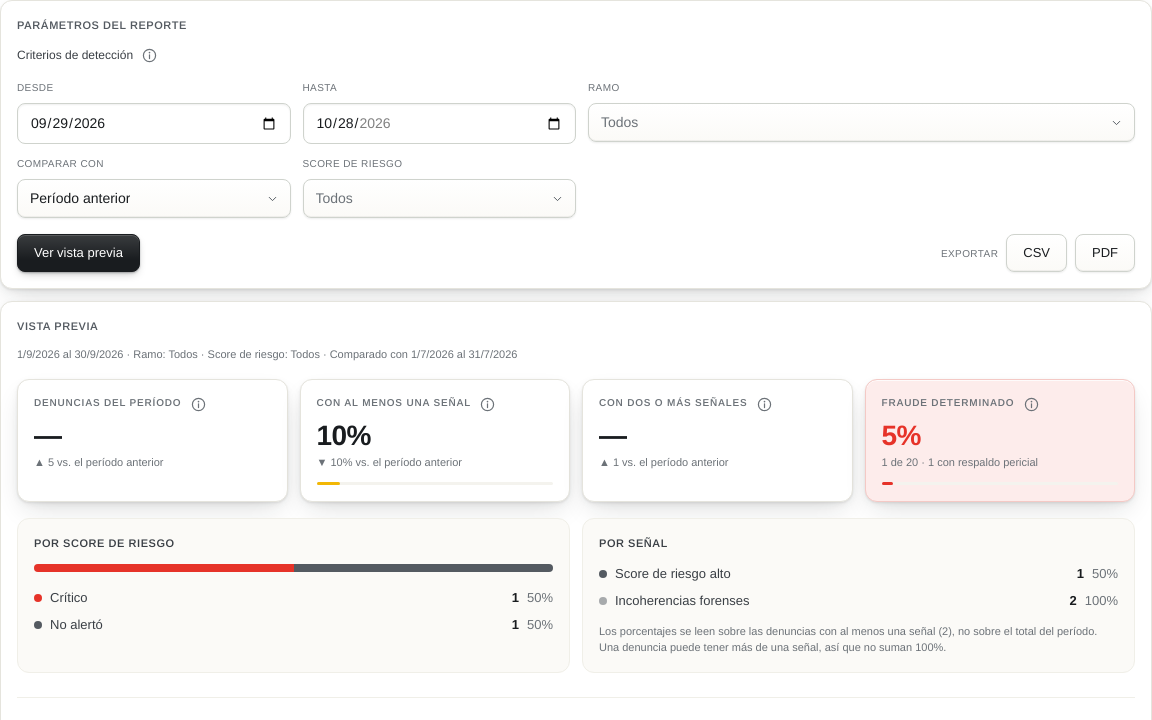
Test: FraudReportComponent › keeps the detection criteria behind the info tip until it is opened
Click the button named "Más información" next to "Criterios de detección" at (149, 55), box 140,46 -> 158,64
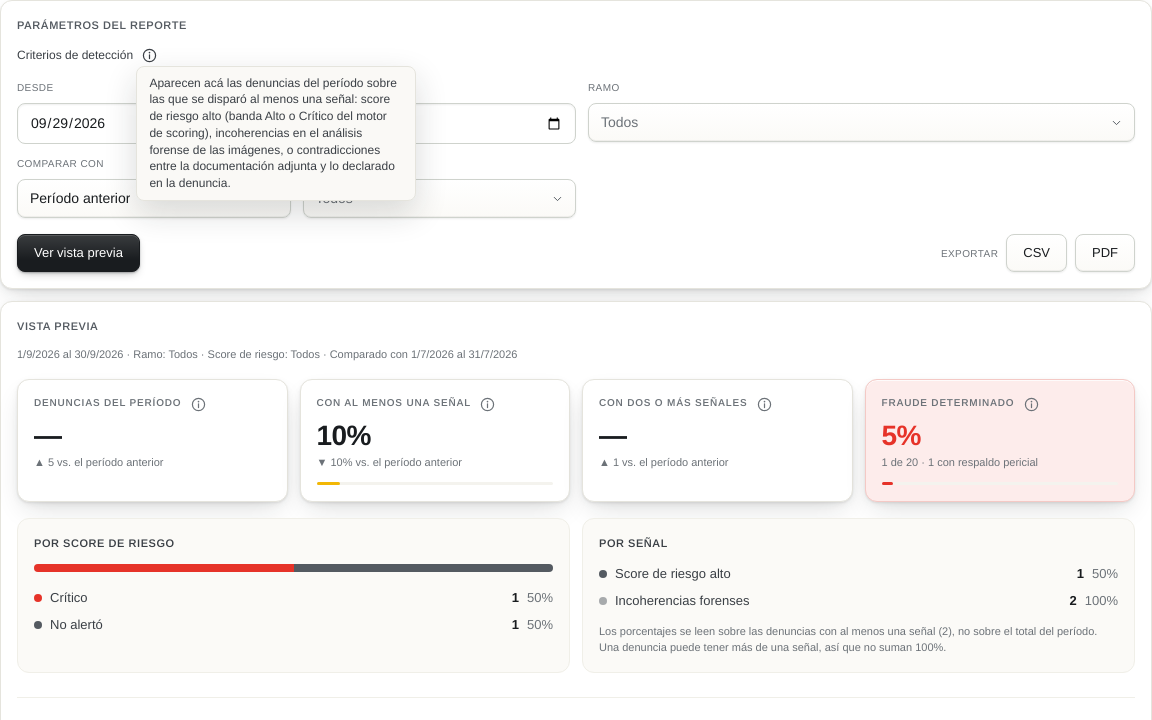
Expected: the text "score de riesgo alto (banda Alto" is shown, 149,76 -> 397,190
Expected: the text "lo declarado en la denuncia." is shown, 149,76 -> 397,190
